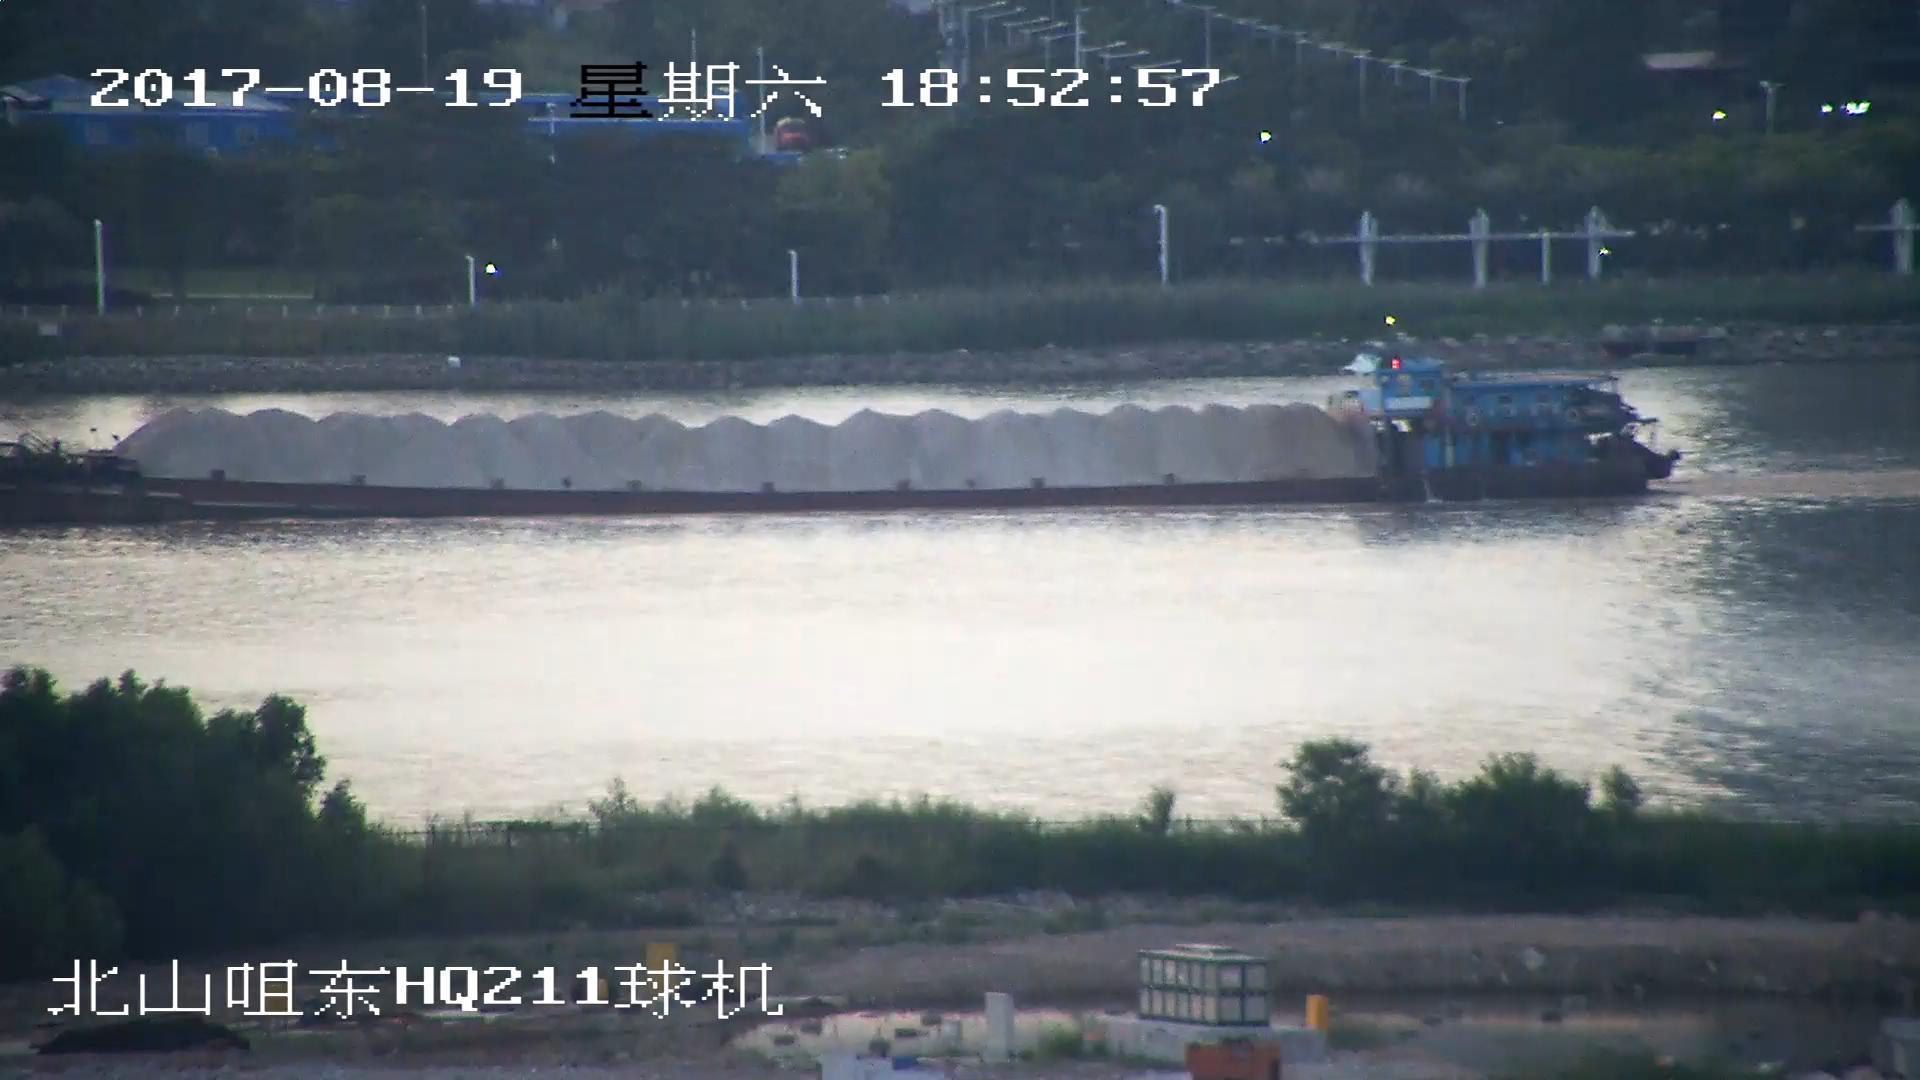Ship: (3, 324, 1683, 513)
